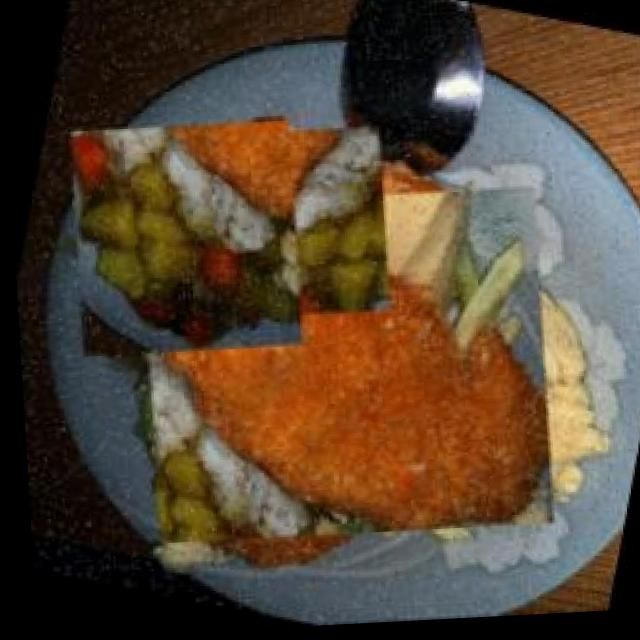curry: (14, 71, 354, 410)
fried_chicken: (60, 88, 623, 638)
rice: (117, 78, 434, 375)
